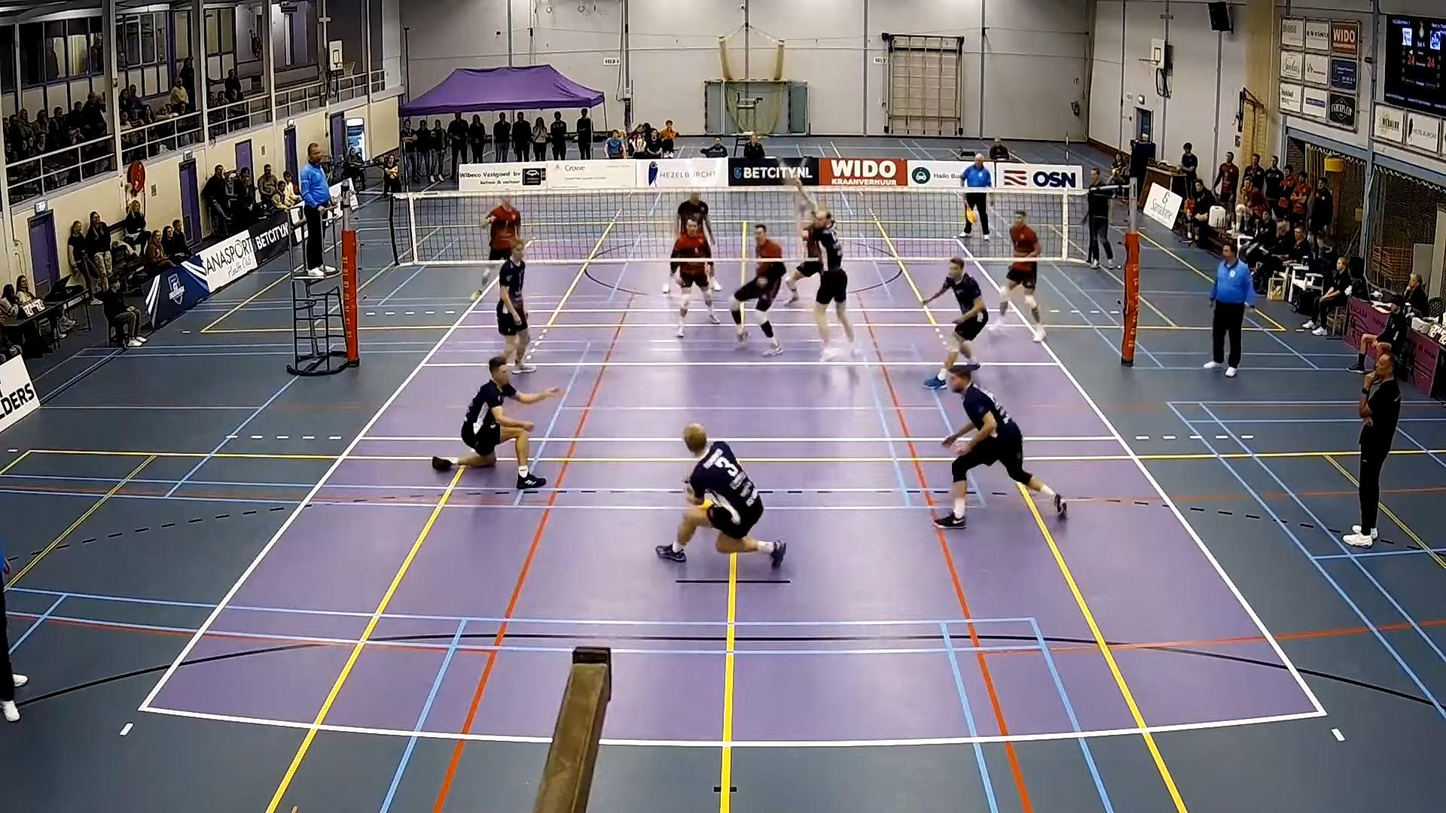difesa: (650, 418, 794, 576)
